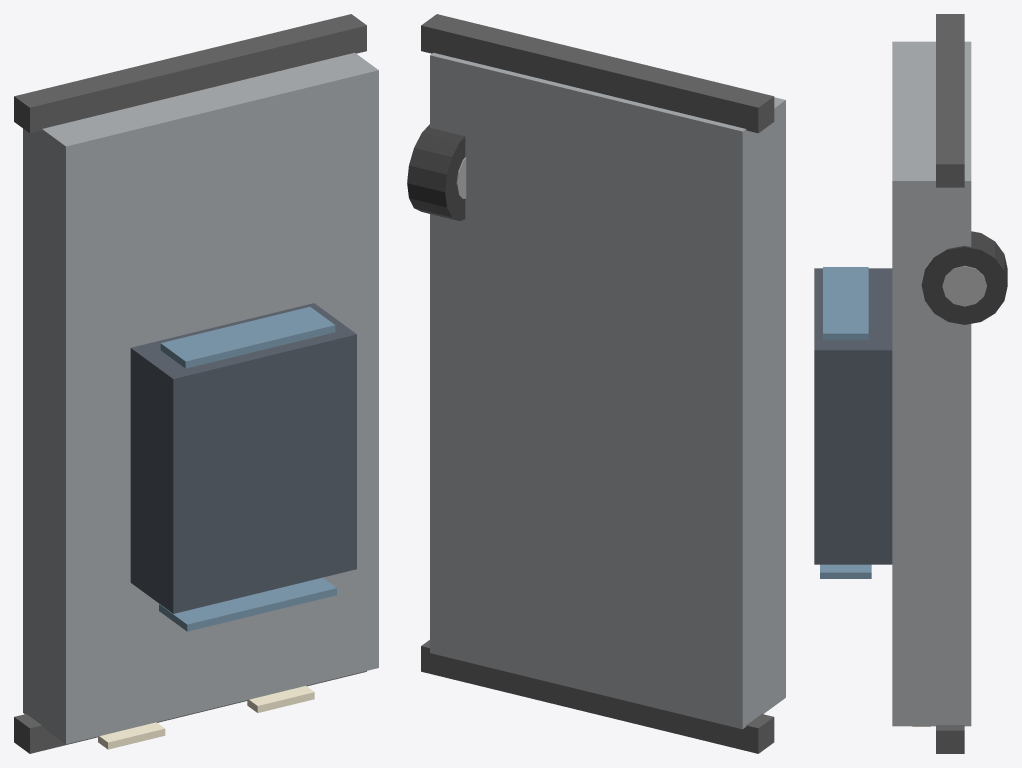
File: vehicle_gray_hatchback.glb
The picture shows the model from 3 angles, left to right: view 1: azimuth 30°, elevation 25°; view 2: azimuth 150°, elevation 25°; view 3: azimuth 270°, elevation 25°; orthographic projection. The views are drawn at different scales.
Visible parts, largest first — view 1: body, dark_cabin, rear_bumper, rear_window, front_window, front_bumper, headlight_L, headlight_R; view 2: body, rear_bumper, front_bumper, wheel_tire; view 3: body, dark_cabin, rear_bumper, wheel_tire, rear_window, wheel_hub, front_bumper, front_window.
Boxes of the visible parts, x1=… form: body: x1=23, y1=52, x2=378, y2=744; dark_cabin: x1=130, y1=303, x2=356, y2=613; rear_bumper: x1=14, y1=14, x2=366, y2=133; rear_window: x1=160, y1=307, x2=335, y2=368; front_window: x1=159, y1=577, x2=336, y2=631; front_bumper: x1=14, y1=671, x2=366, y2=753; headlight_L: x1=98, y1=722, x2=165, y2=749; headlight_R: x1=247, y1=686, x2=314, y2=712; body: x1=430, y1=52, x2=785, y2=729; rear_bumper: x1=421, y1=14, x2=774, y2=133; front_bumper: x1=421, y1=640, x2=774, y2=753; wheel_tire: x1=407, y1=124, x2=465, y2=220; body: x1=892, y1=41, x2=971, y2=726; dark_cabin: x1=814, y1=268, x2=892, y2=564; rear_bumper: x1=936, y1=14, x2=964, y2=187; wheel_tire: x1=921, y1=231, x2=1007, y2=324; rear_window: x1=823, y1=267, x2=868, y2=339; wheel_hub: x1=942, y1=265, x2=986, y2=306; front_bumper: x1=936, y1=725, x2=964, y2=753; front_window: x1=820, y1=564, x2=871, y2=578.
Size of the model in its own units: 2.48 by 4.56 by 1.35.
